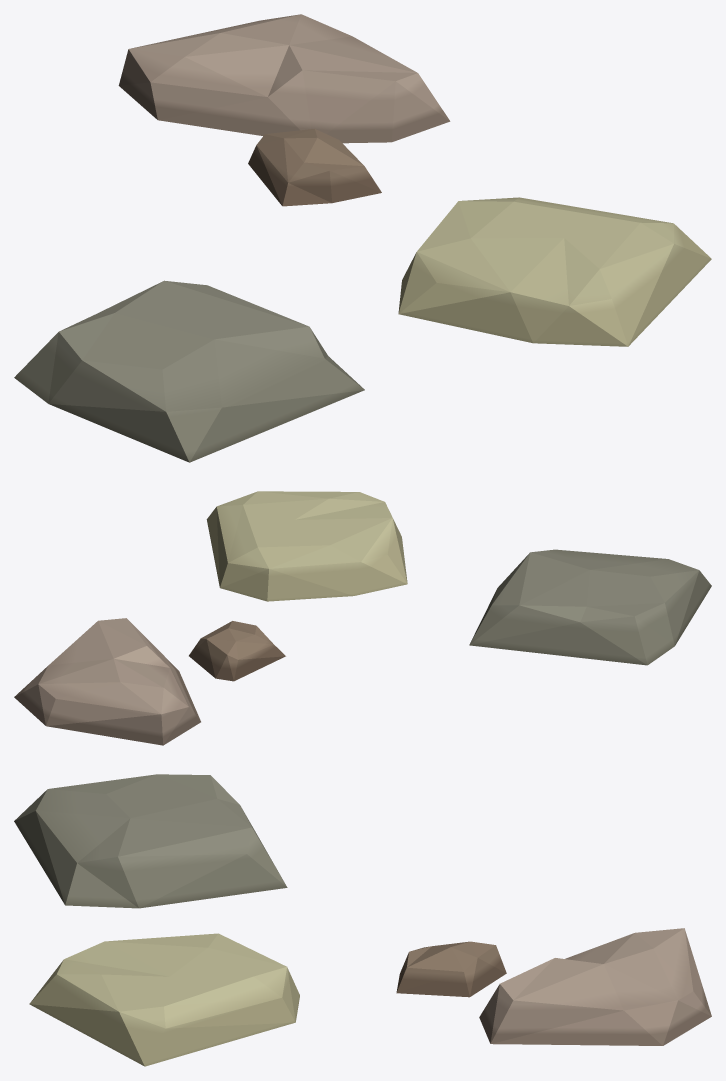
The model's file is um_pebble002.FBX.
3 views of the same model, one above another, from view 1: azimuth 30°, elevation 25°; view 2: azimuth 150°, elevation 25°; view 3: azimuth 270°, elevation 25° (orthographic). The views are drawn at different scales.
Parts seen in each view (by area): view 1: um_pebble002; view 2: um_pebble002; view 3: um_pebble002.
Boxes of the visible parts, left/top/right/bottom form: um_pebble002: left=14, top=14, right=711, bottom=462; um_pebble002: left=14, top=491, right=711, bottom=745; um_pebble002: left=14, top=774, right=711, bottom=1066.
Size of the model in its own units: 1.7 by 0.1252 by 1.89.
